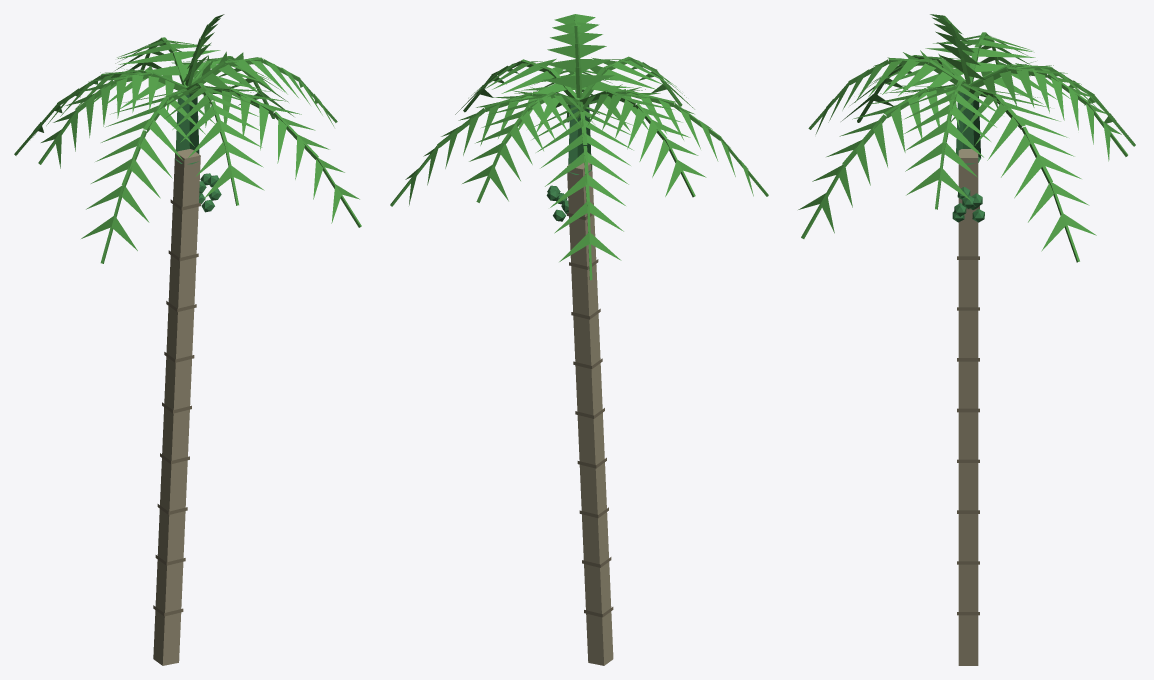
Rendered from viet_tree_areca.glb.
The picture shows the model from 3 angles, left to right: view 1: azimuth 30°, elevation 25°; view 2: azimuth 150°, elevation 25°; view 3: azimuth 270°, elevation 25°; orthographic projection. The views are drawn at different scales.
Parts seen in each view (by area): view 1: viet_tree_areca; view 2: viet_tree_areca; view 3: viet_tree_areca.
Part boxes in pixels (<box>): viet_tree_areca: <box>14,14,361,665</box>; viet_tree_areca: <box>390,14,768,665</box>; viet_tree_areca: <box>798,14,1135,665</box>.
Size of the model in its own units: 0.4659 by 1 by 0.4659.
